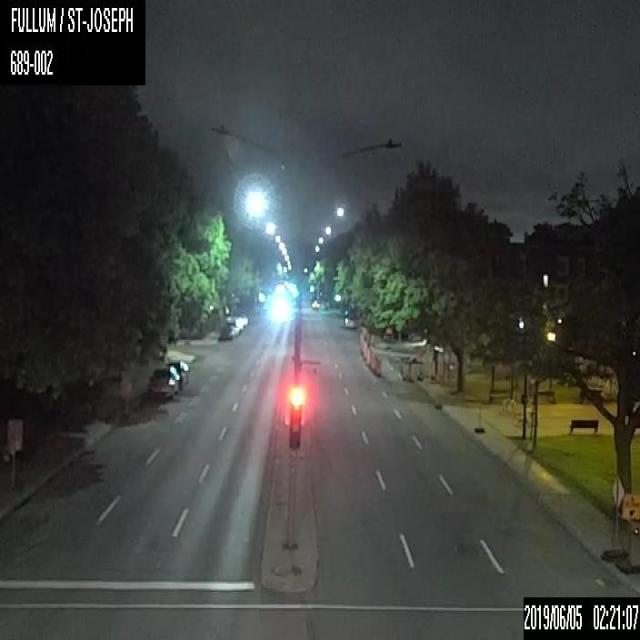construction: (602, 475, 627, 561), (615, 491, 639, 573), (364, 348, 370, 364), (376, 358, 380, 376)
vehicle: (146, 364, 179, 399), (166, 359, 188, 388), (218, 316, 236, 340), (343, 312, 357, 328), (310, 296, 319, 309)
